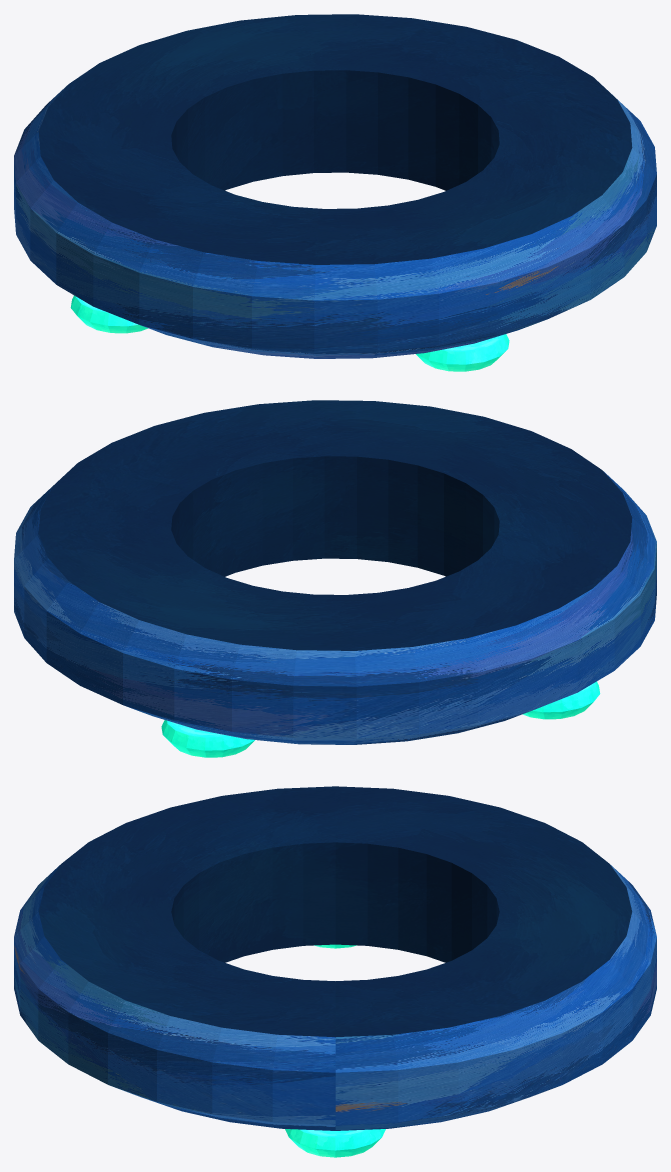
The model's file is part-beam.glb.
3 renders of one model, top to bottom at view 1: azimuth 30°, elevation 25°; view 2: azimuth 150°, elevation 25°; view 3: azimuth 270°, elevation 25°, orthographic.
Visible parts, largest first — view 1: Beam_Housing, Beam_Lens_02, Beam_Lens_03; view 2: Beam_Housing, Beam_Lens_04, Beam_Lens_03; view 3: Beam_Housing, Beam_Lens_01.
Boxes of the visible parts, x1,y1,x2,y2 form: Beam_Housing: [14, 14, 656, 358]; Beam_Lens_02: [416, 334, 509, 371]; Beam_Lens_03: [70, 295, 147, 333]; Beam_Housing: [14, 400, 656, 744]; Beam_Lens_04: [161, 720, 254, 757]; Beam_Lens_03: [523, 681, 600, 719]; Beam_Housing: [14, 786, 656, 1130]; Beam_Lens_01: [285, 1129, 385, 1157].
Bounding box in the file's own units: 0.65 × 0.145 × 0.65.
Materials: 3 (3 with a texture image).
